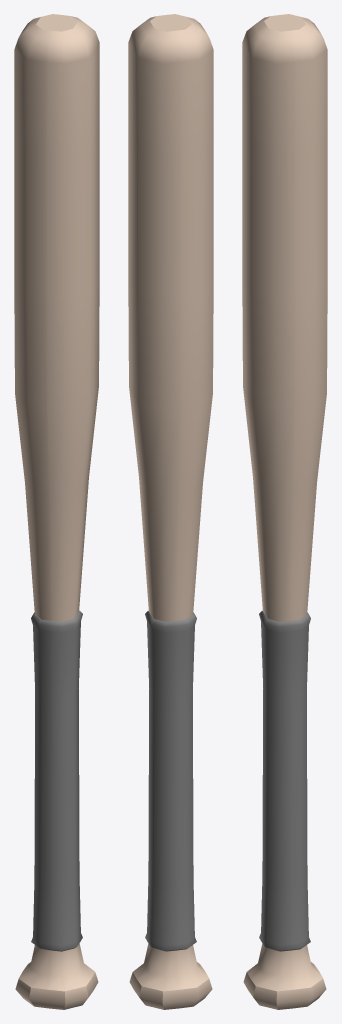
Rendered from Baseball Bat.fbx.
3 views of the same model, side by side, from view 1: azimuth 30°, elevation 25°; view 2: azimuth 150°, elevation 25°; view 3: azimuth 330°, elevation 25° (orthographic).
Visible parts, largest first — view 1: pCube3; view 2: pCube3; view 3: pCube3.
Boxes of the visible parts, x1,y1,x2,y2 form: pCube3: (14, 14, 99, 1009); pCube3: (128, 14, 213, 1009); pCube3: (242, 14, 327, 1009).
Bounding box in the file's own units: 1.13 × 14.62 × 1.13.
